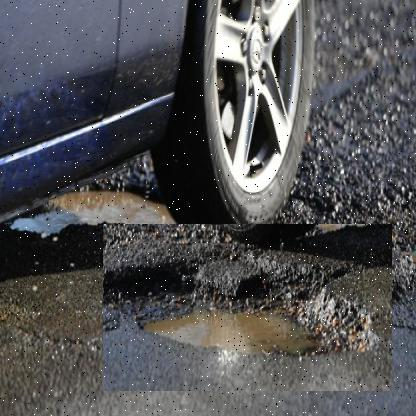pothole_water: (101, 224, 392, 392)
